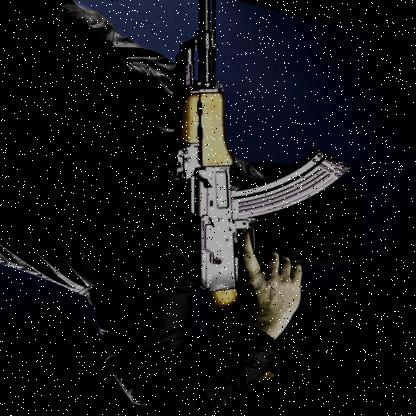rifle: (71, 0, 389, 393)
